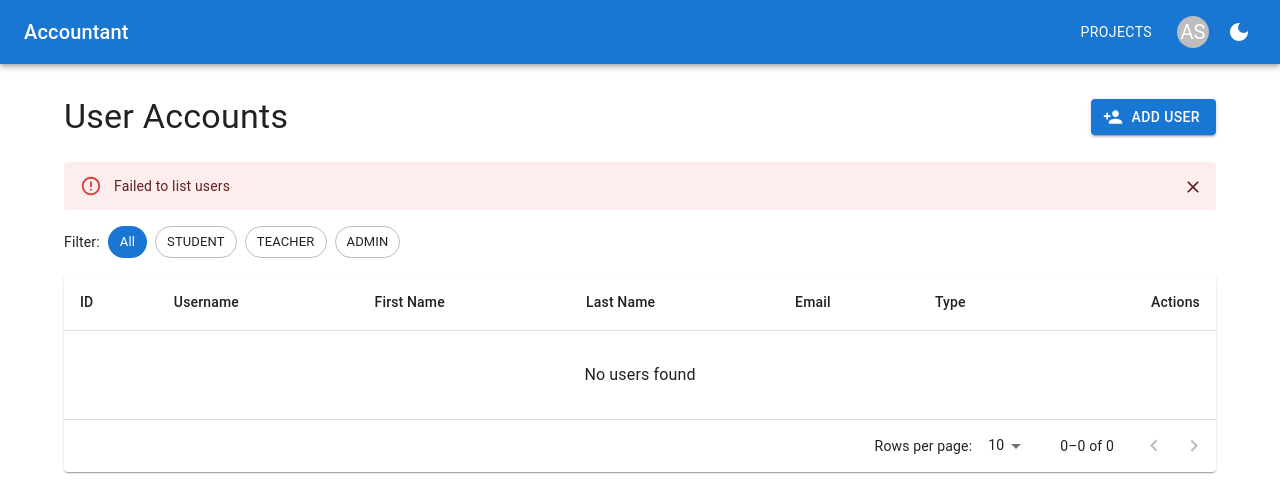
Scenario: Users page › shows an error banner when the list request fails
The width and height of the screenshot is (1280, 491).
Expected: the text "Failed to list users" is shown, [114, 178, 230, 194]
Note: Dismiss the banner
Click the button named "Close": [1193, 187] box [1178, 172, 1208, 202]
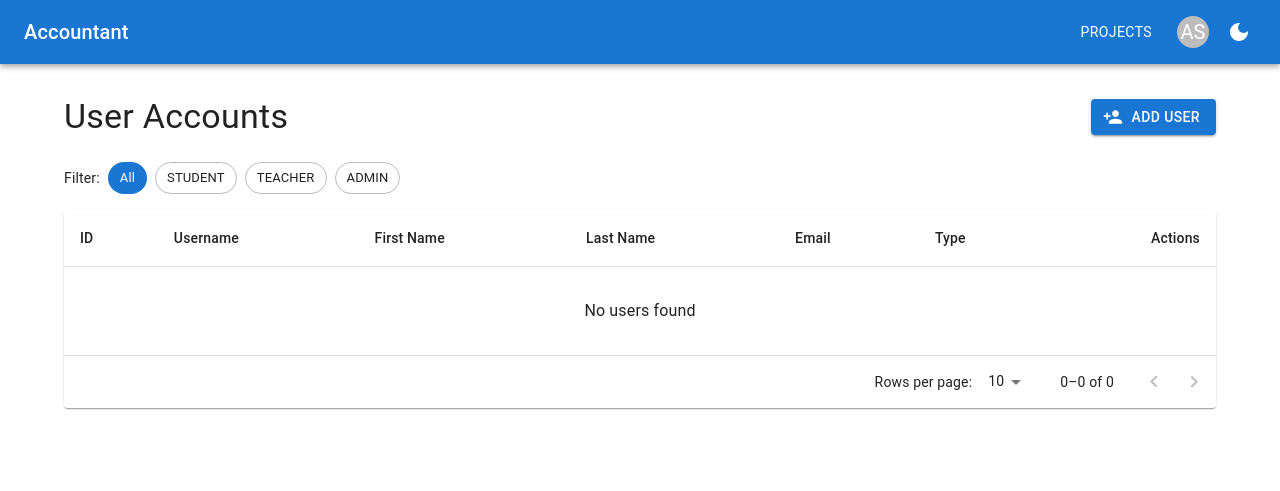
Expected: the text "Failed to list users" is gone
